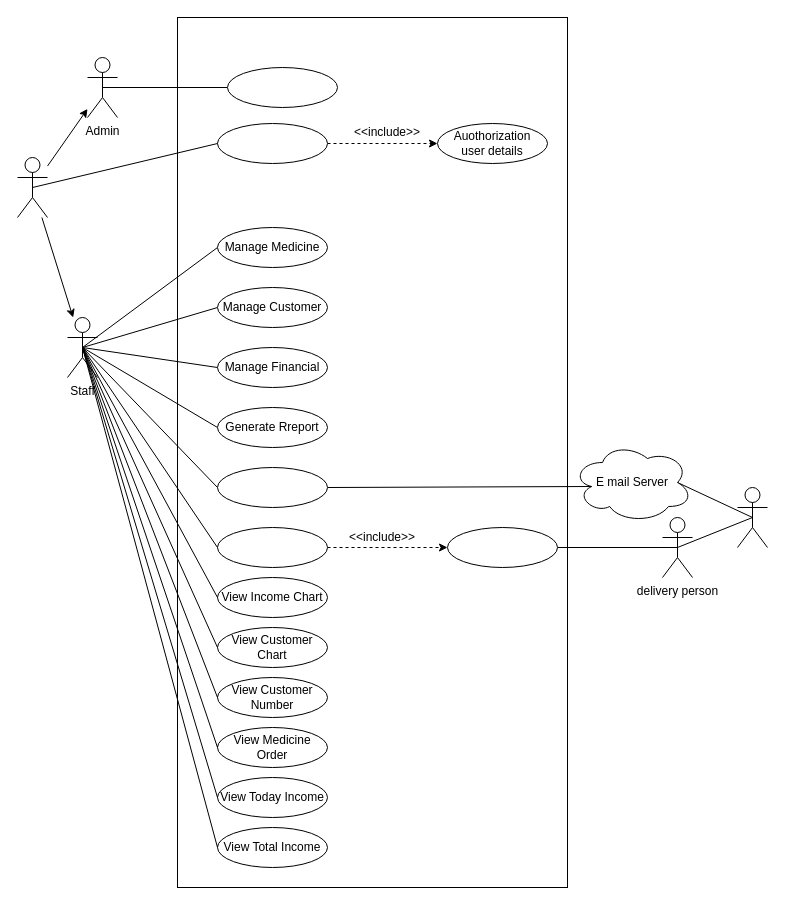
The diagram is 796 pixels wide and 905 high, and some of its shapes have lost their labels. Here are the shapes that lost their labels. From the top down, the box of each, then its label:
(226, 66, 338, 108): Manage user
(216, 122, 328, 164): Login
(16, 156, 48, 218): User
(216, 466, 328, 508): Formal Communication
(736, 486, 768, 548): Customer
(216, 526, 328, 568): Medicine Distribusion
(446, 526, 558, 568): Invoice
